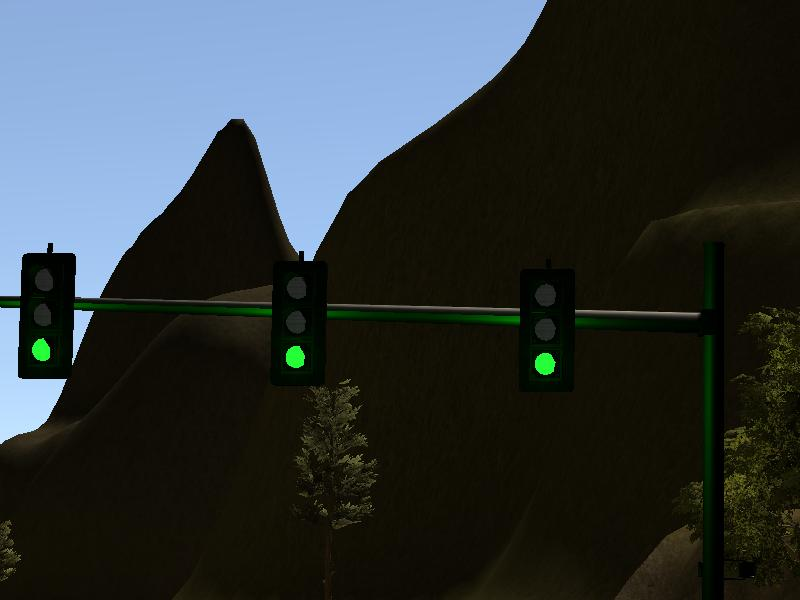Green: (274, 262, 325, 385), (22, 254, 72, 378), (519, 272, 570, 390)
